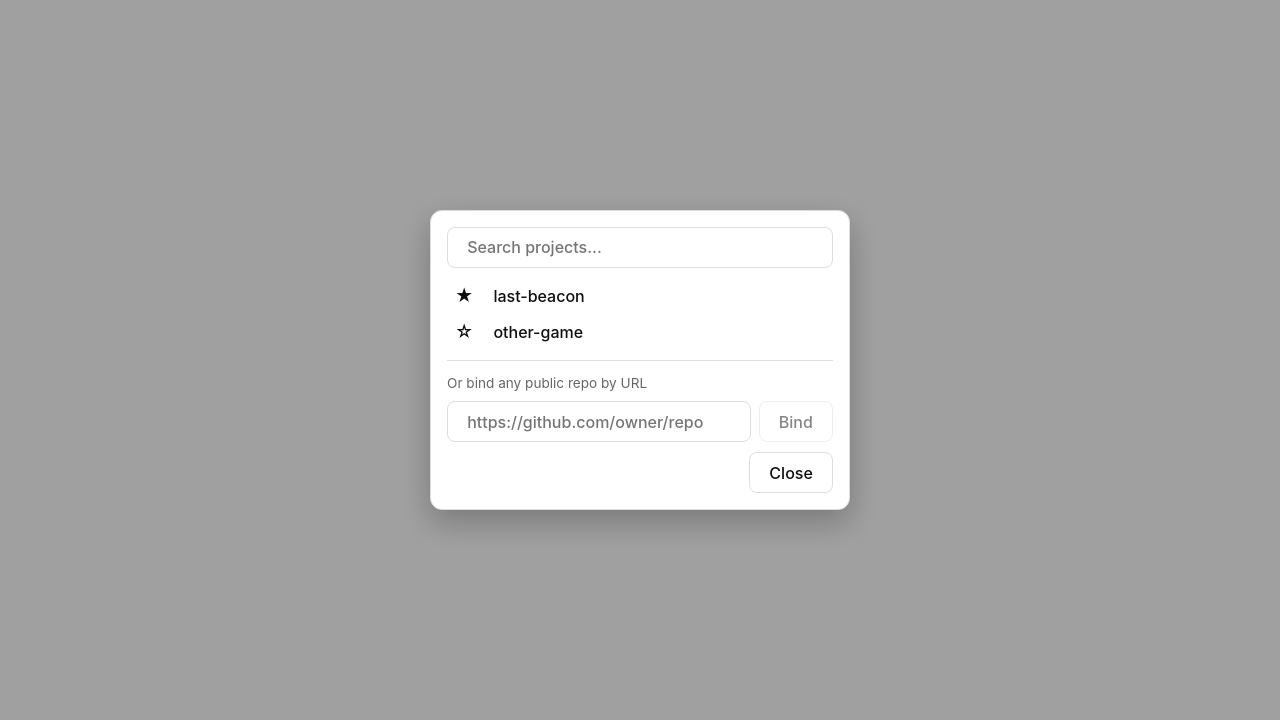
Test: BindProjectPopup › filters the list by search text
Type "other" into the field labelled "Search projects". click: (640, 247)
box: [447,227,833,268]
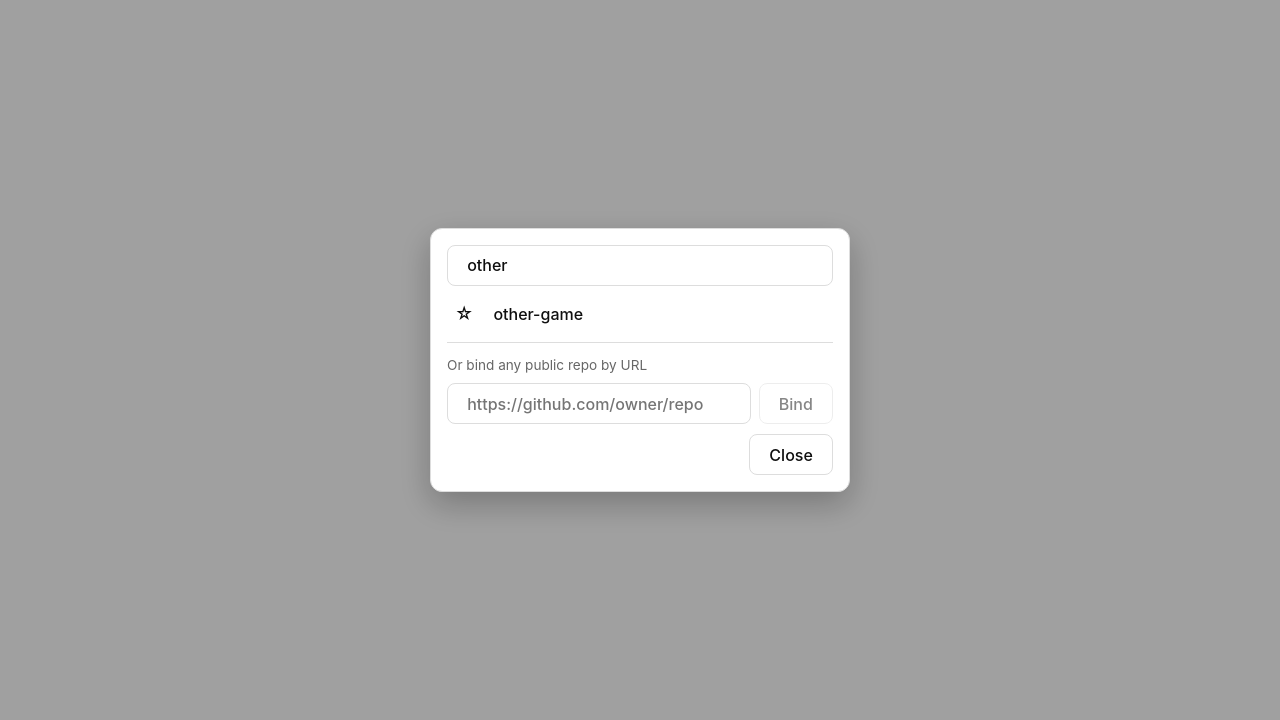
Expected: the button "other-game" is shown, [489,296,833,332]
Expected: the button "last-beacon" is gone
